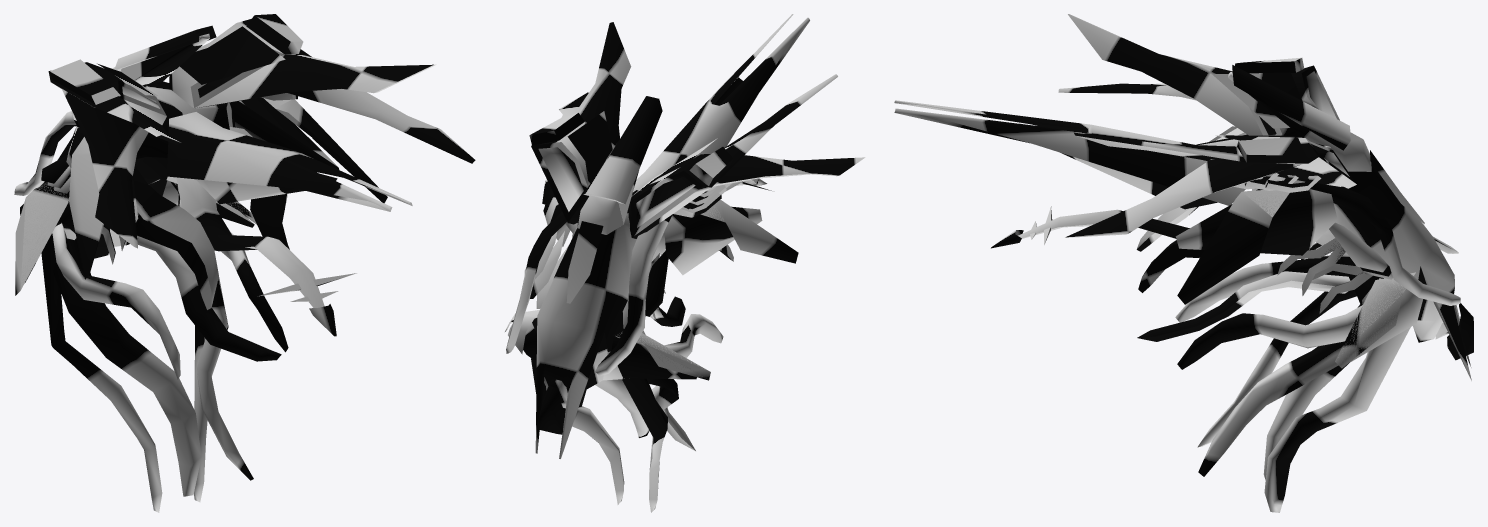
Rendered from saimon_boss.obj.
The picture shows the model from 3 angles, left to right: view 1: azimuth 30°, elevation 25°; view 2: azimuth 150°, elevation 25°; view 3: azimuth 270°, elevation 25°; orthographic projection. The views are drawn at different scales.
Parts seen in each view (by area): view 1: saimon_boss; view 2: saimon_boss; view 3: saimon_boss.
Part boxes in pixels (x1=…): saimon_boss: x1=14, y1=14, x2=475, y2=512; saimon_boss: x1=504, y1=14, x2=865, y2=512; saimon_boss: x1=894, y1=14, x2=1473, y2=512.
Size of the model in its own units: 51.4 by 69.75 by 83.75.
1 material, 1 textured.
